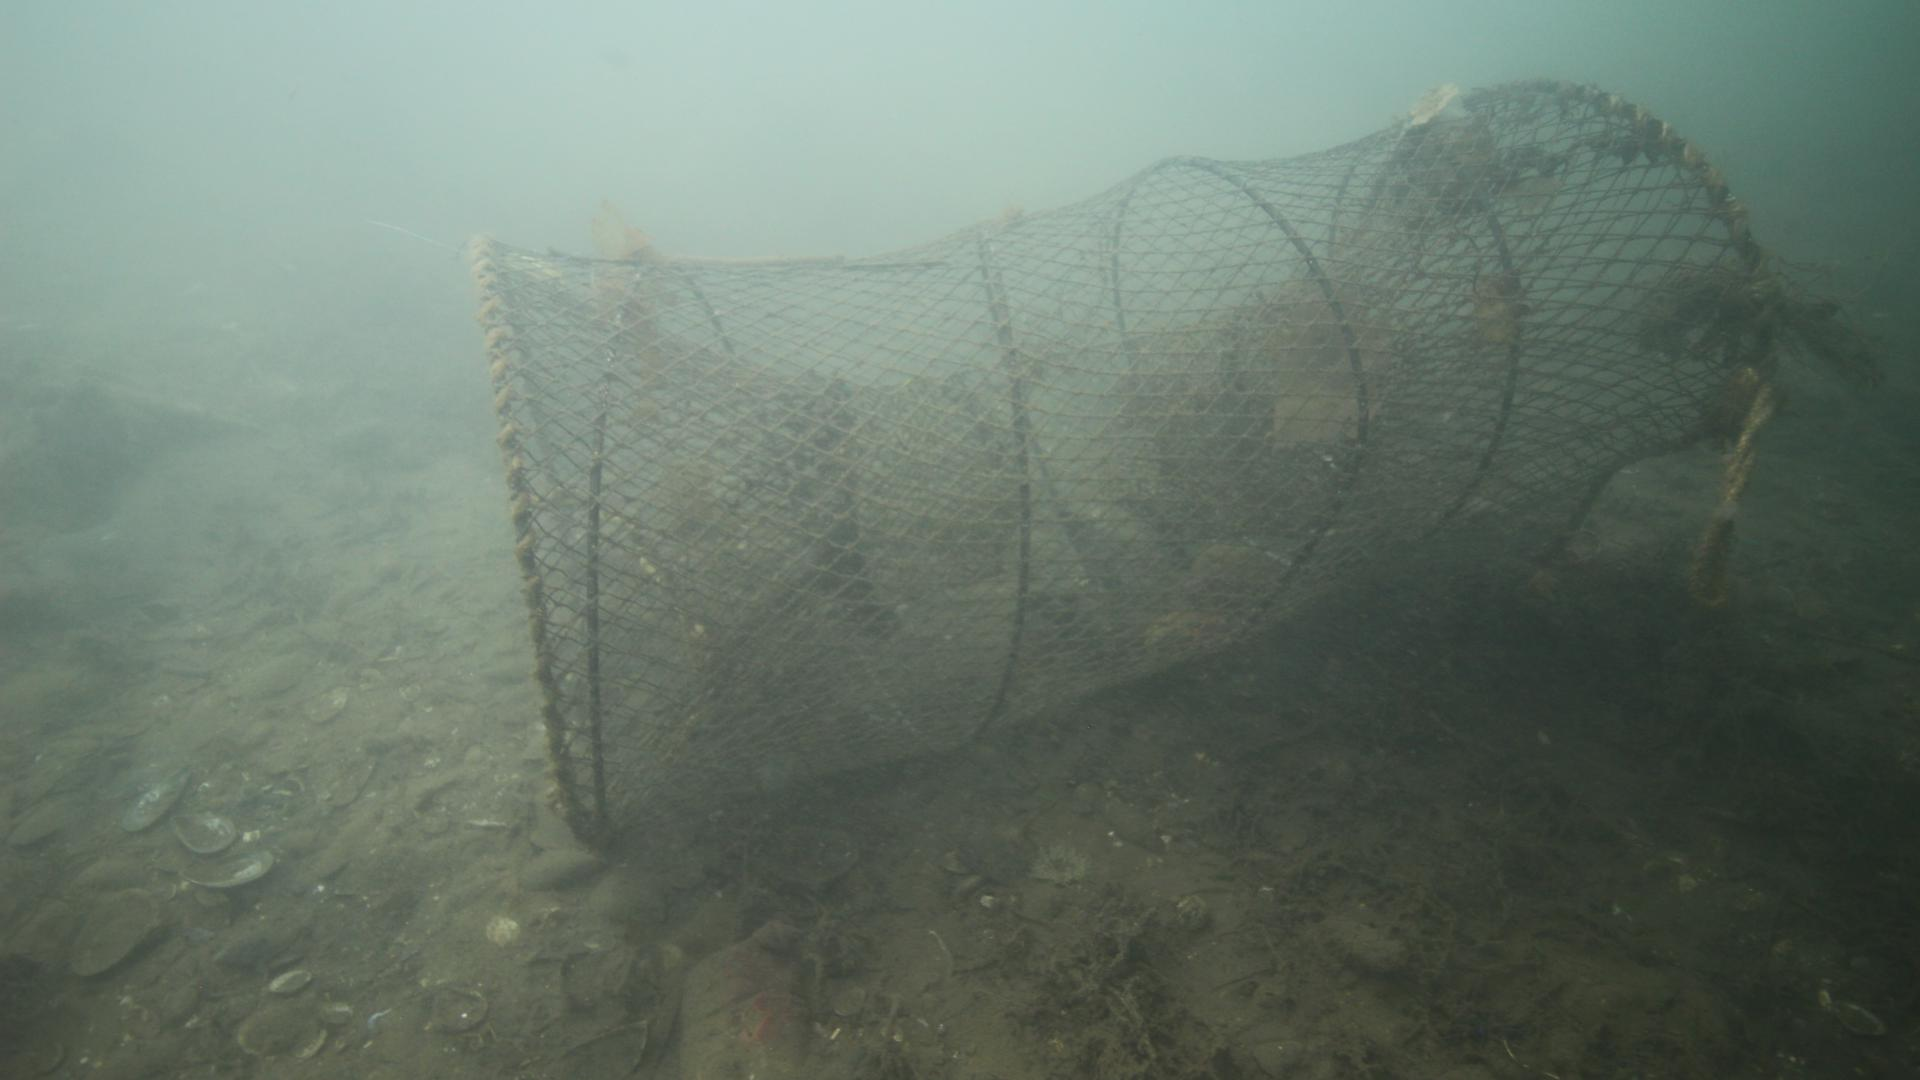spring fish trap: (473, 78, 1778, 851)
